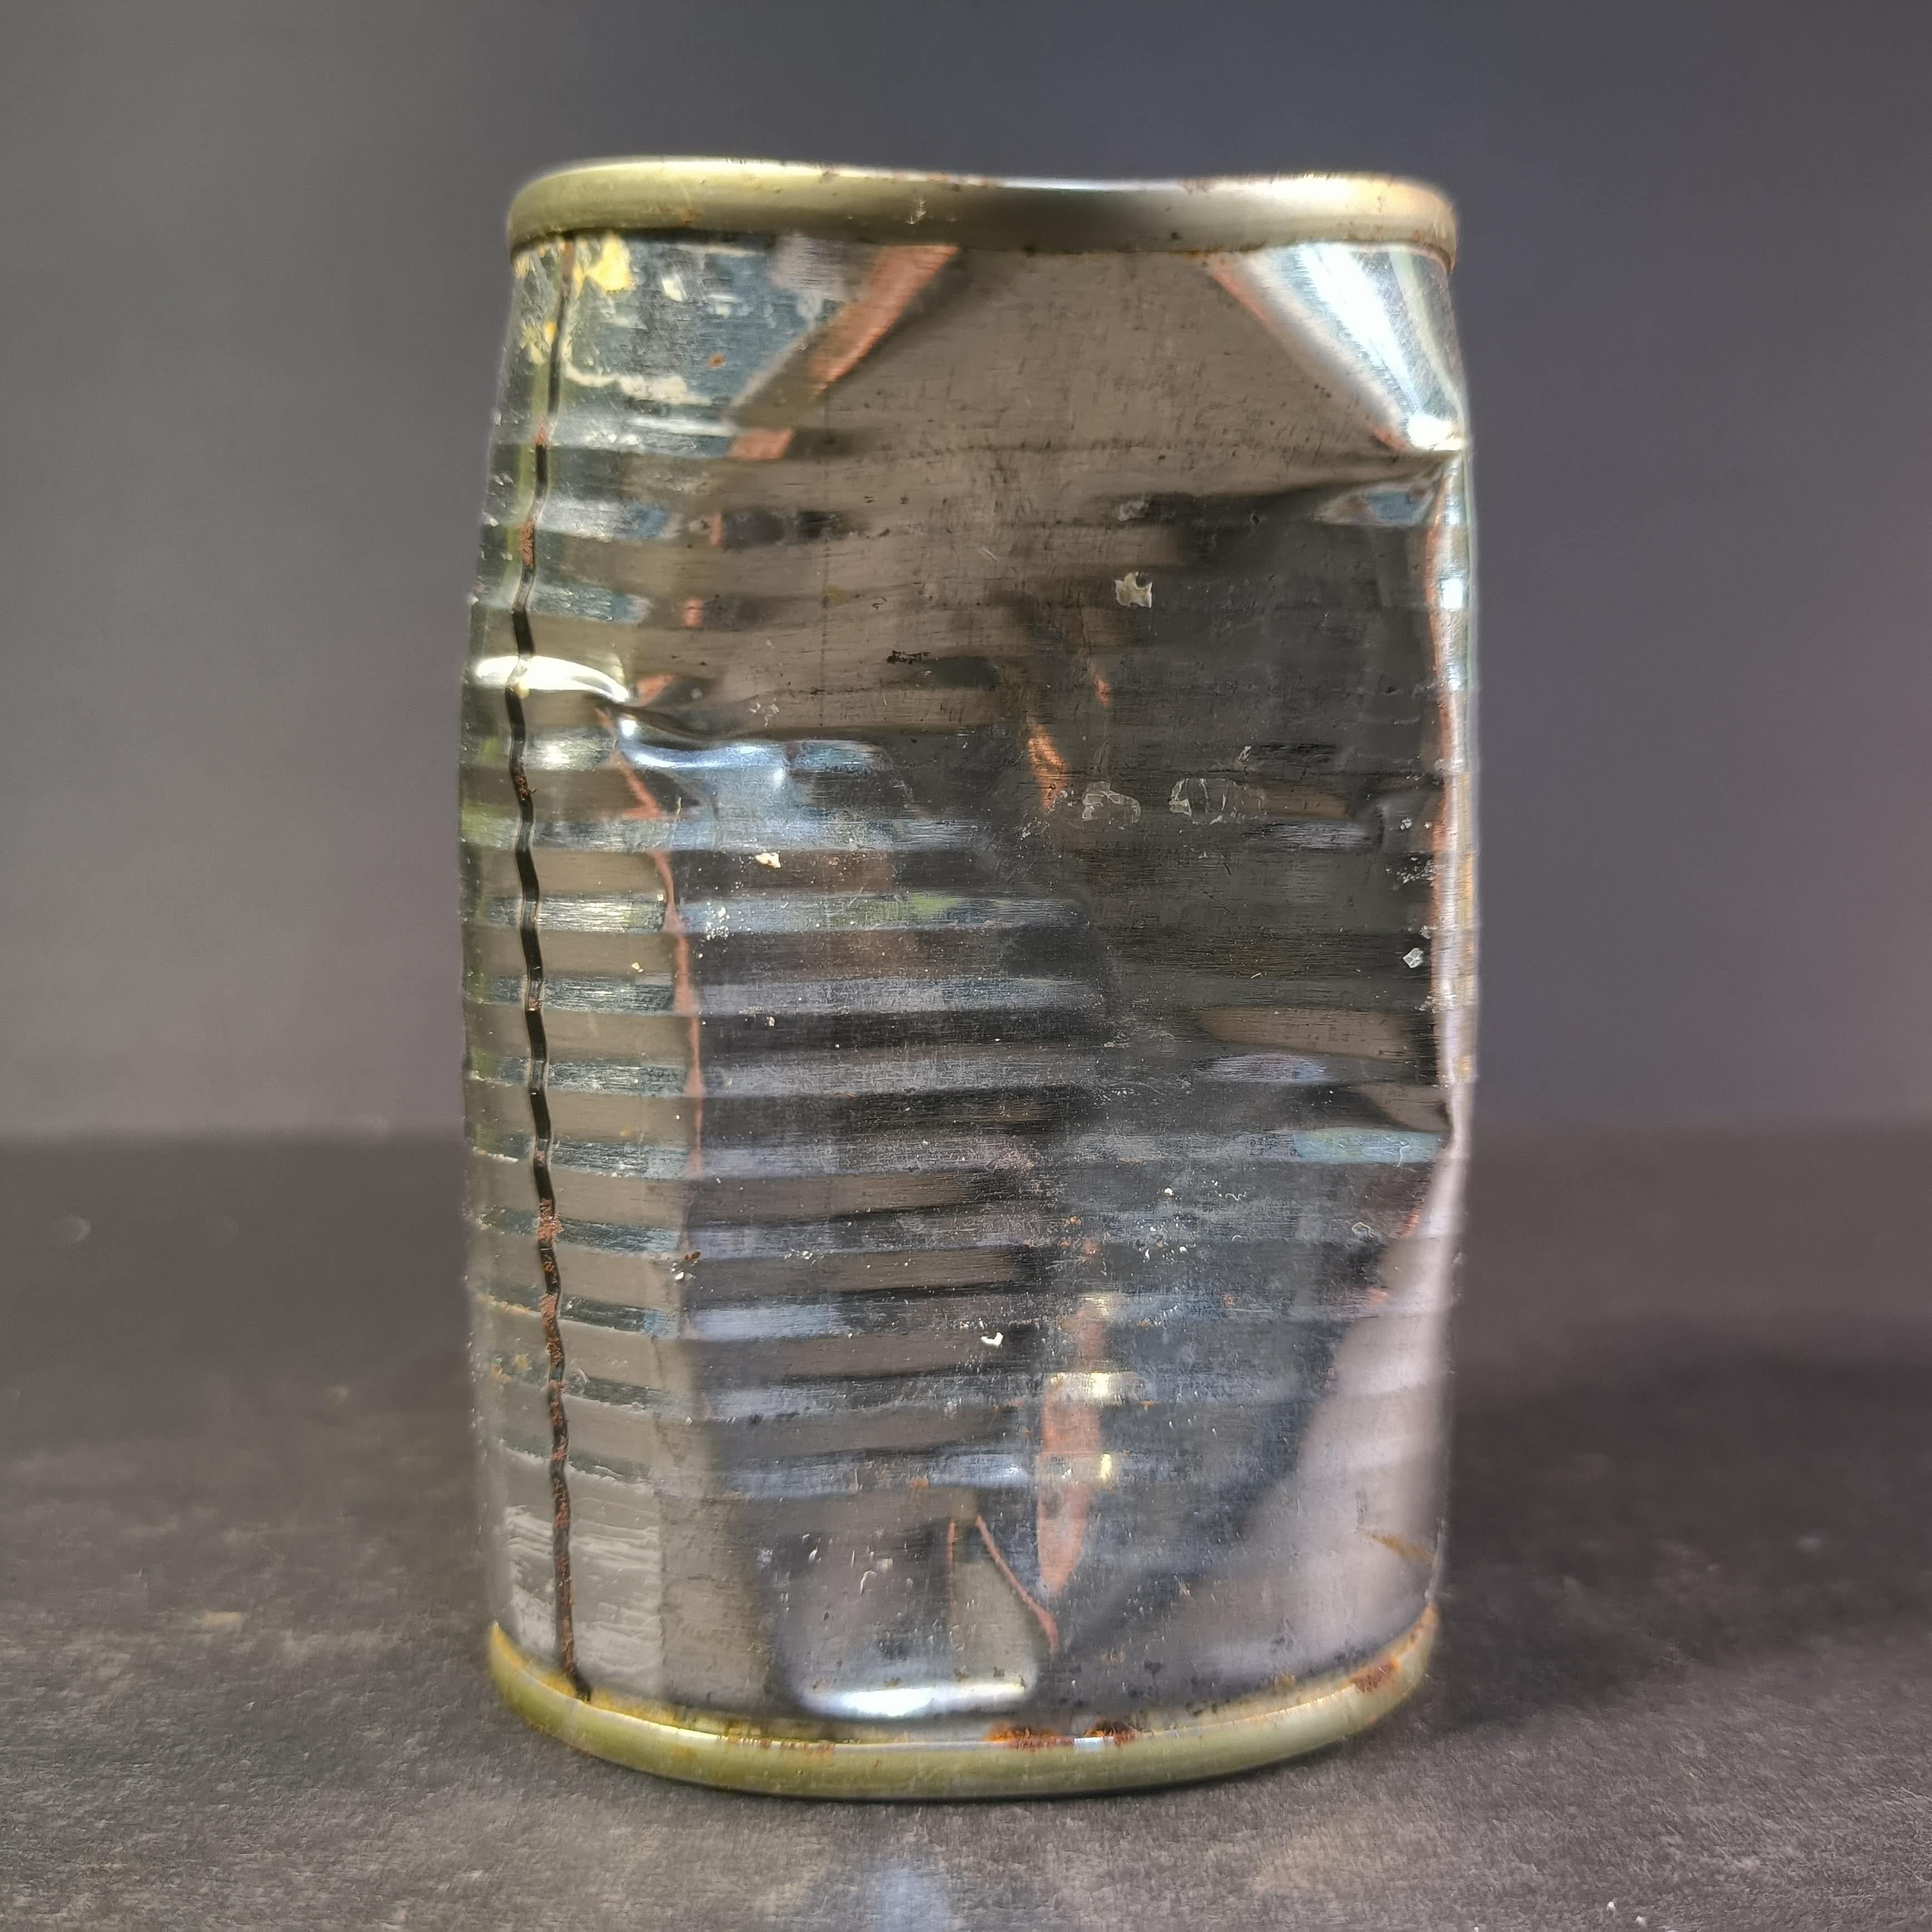Dented: (415, 114, 1491, 1831)
